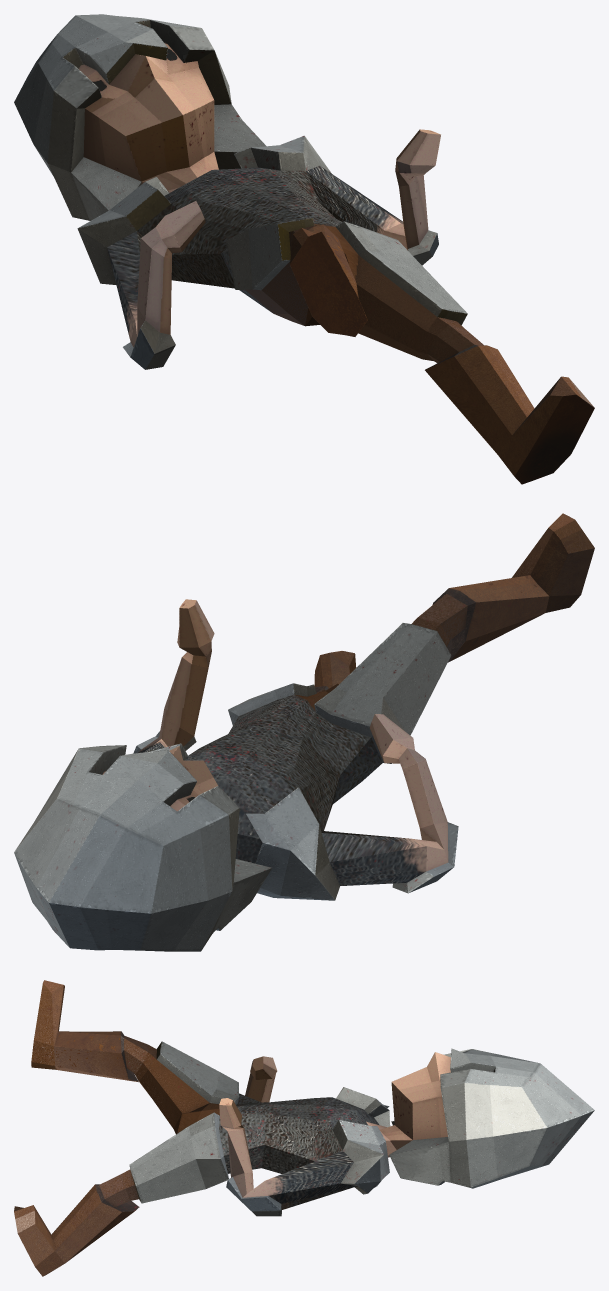
Rendered from Walk_Soldier_3.obj.
The picture shows the model from 3 angles, top to bottom: view 1: azimuth 30°, elevation 25°; view 2: azimuth 150°, elevation 25°; view 3: azimuth 270°, elevation 25°; orthographic projection. The views are drawn at different scales.
Visible parts, largest first — view 1: Soldado_LowPolySTD; view 2: Soldado_LowPolySTD; view 3: Soldado_LowPolySTD.
Boxes of the visible parts, x1,y1,x2,y2 form: Soldado_LowPolySTD: [14, 14, 594, 484]; Soldado_LowPolySTD: [14, 513, 594, 951]; Soldado_LowPolySTD: [14, 980, 594, 1276].
Size of the model in its own units: 1.27 by 1.23 by 2.97.
